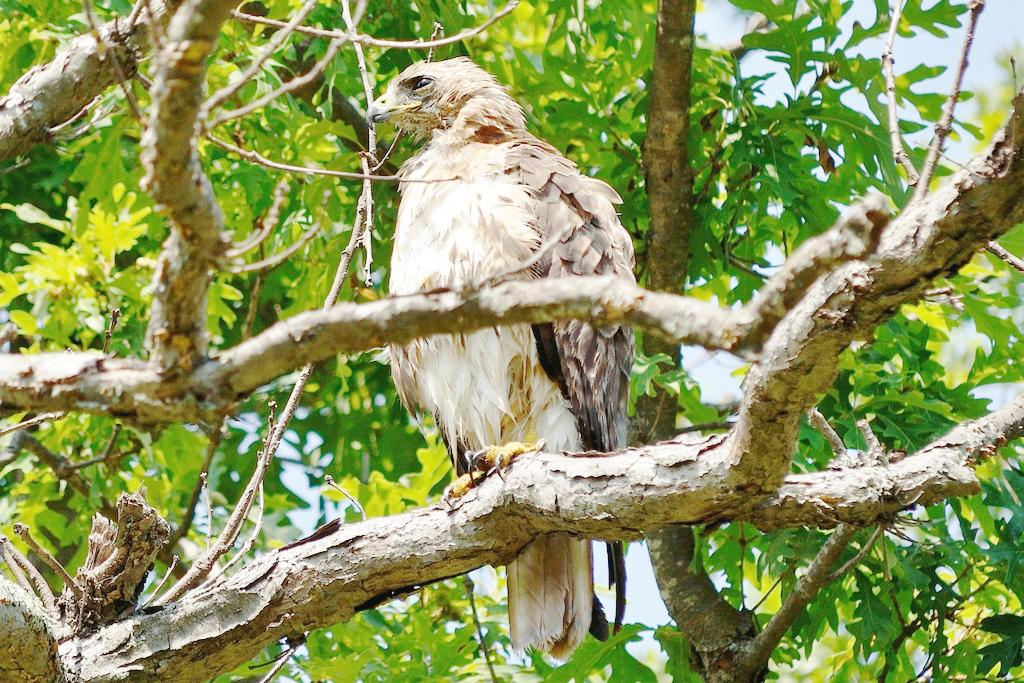Owl: (364, 50, 636, 673)
